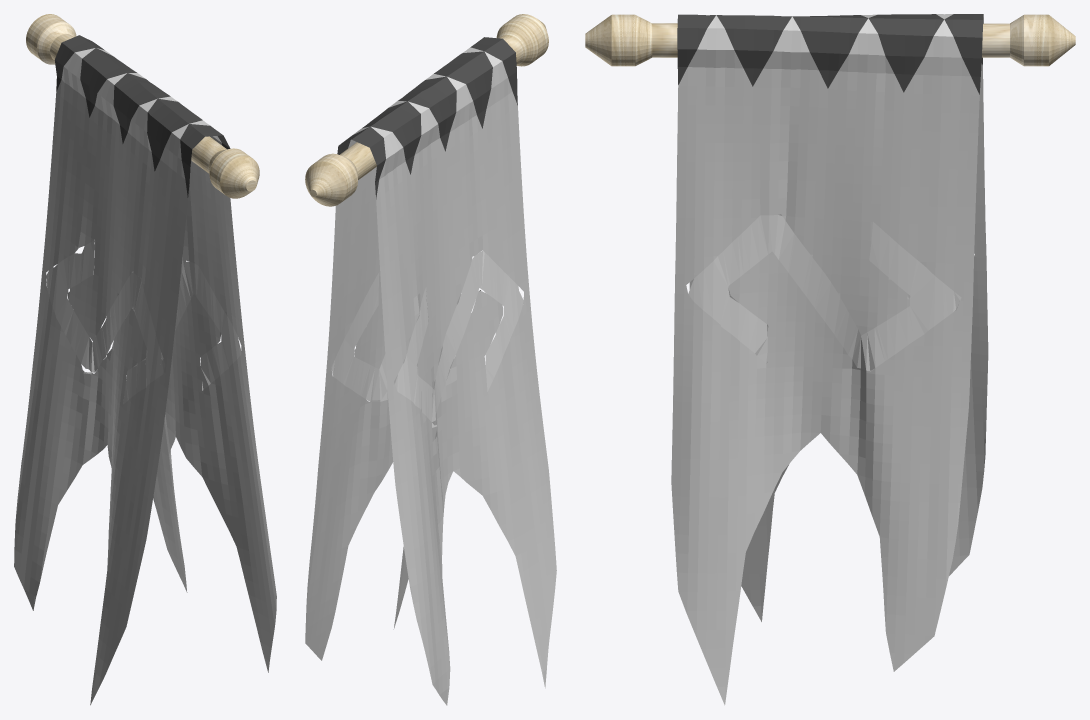
Rendered from banner-drape2.fbx.
3 renders of one model, left to right at view 1: azimuth 30°, elevation 25°; view 2: azimuth 150°, elevation 25°; view 3: azimuth 270°, elevation 25°, orthographic. The views are drawn at different scales.
Visible parts, largest first — view 1: Plane, banner-holder; view 2: Plane, banner-holder; view 3: Plane, banner-holder.
Boxes of the visible parts, x1=… form: Plane: x1=14, y1=35, x2=276, y2=705; banner-holder: x1=26, y1=14, x2=259, y2=198; Plane: x1=305, y1=37, x2=556, y2=705; banner-holder: x1=305, y1=14, x2=548, y2=206; Plane: x1=671, y1=14, x2=988, y2=705; banner-holder: x1=585, y1=14, x2=1075, y2=66.
Size of the model in its own units: 92.14 by 315 by 215.
